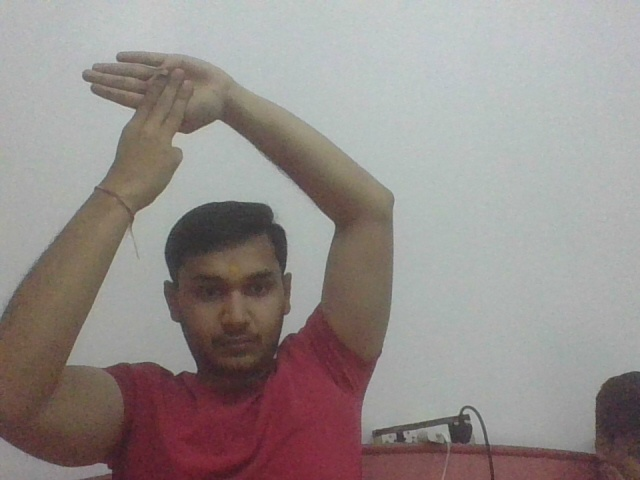M: (79, 48, 226, 180)
